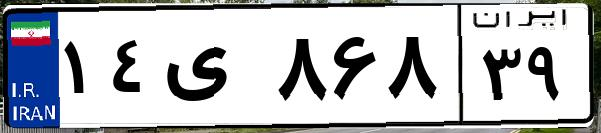1: (57, 26, 110, 100)
3: (475, 38, 525, 113)
4: (110, 28, 158, 98)
6: (330, 28, 385, 110)
8: (270, 28, 330, 110), (385, 28, 445, 110)
9: (525, 38, 570, 115)
ی: (158, 20, 270, 120)
